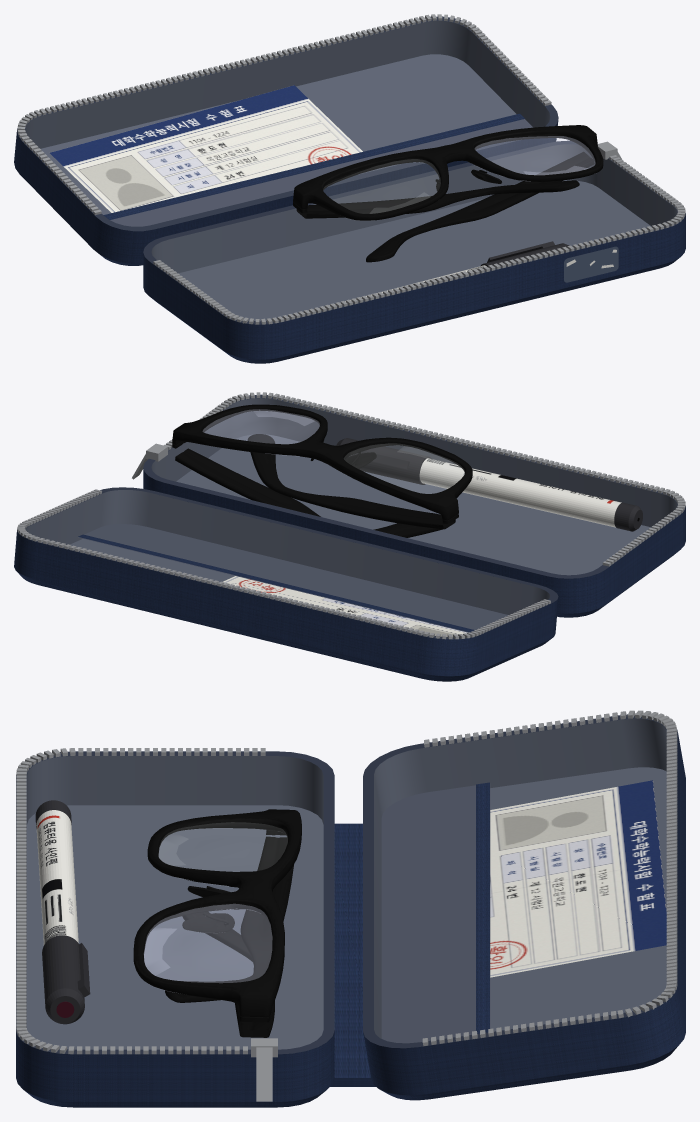
The model's file is pencilcase.glb.
The picture shows the model from 3 angles, top to bottom: view 1: azimuth 30°, elevation 25°; view 2: azimuth 150°, elevation 25°; view 3: azimuth 270°, elevation 25°; orthographic projection. The views are drawn at different scales.
Visible parts, largest first — view 1: case, case_ticket, case_glasses, case_pen; view 2: case, case_glasses, case_pen, case_ticket; view 3: case, case_ticket, case_glasses, case_pen.
Boxes of the visible parts, x1=… form: case: x1=14, y1=14, x2=685, y2=363; case_ticket: x1=50, y1=85, x2=362, y2=212; case_glasses: x1=293, y1=125, x2=603, y2=262; case_pen: x1=308, y1=241, x2=569, y2=310; case: x1=14, y1=392, x2=685, y2=681; case_glasses: x1=172, y1=404, x2=472, y2=537; case_pen: x1=336, y1=438, x2=642, y2=531; case_ticket: x1=223, y1=576, x2=467, y2=636; case: x1=16, y1=710, x2=685, y2=1107; case_ticket: x1=490, y1=780, x2=666, y2=977; case_glasses: x1=133, y1=809, x2=301, y2=1037; case_pen: x1=35, y1=800, x2=90, y2=1024.
Size of the model in its own units: 0.2343 by 0.0416 by 0.2108.
15 materials, 4 textured.
